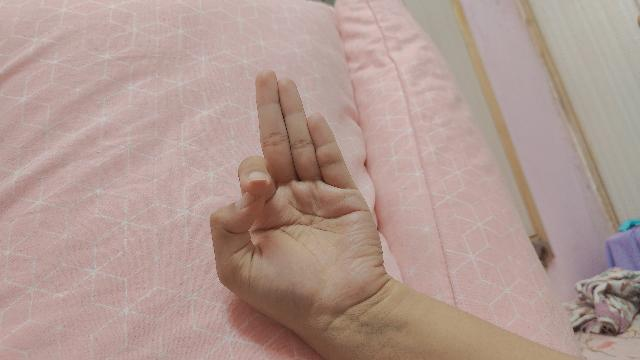aral: (207, 74, 579, 360)
